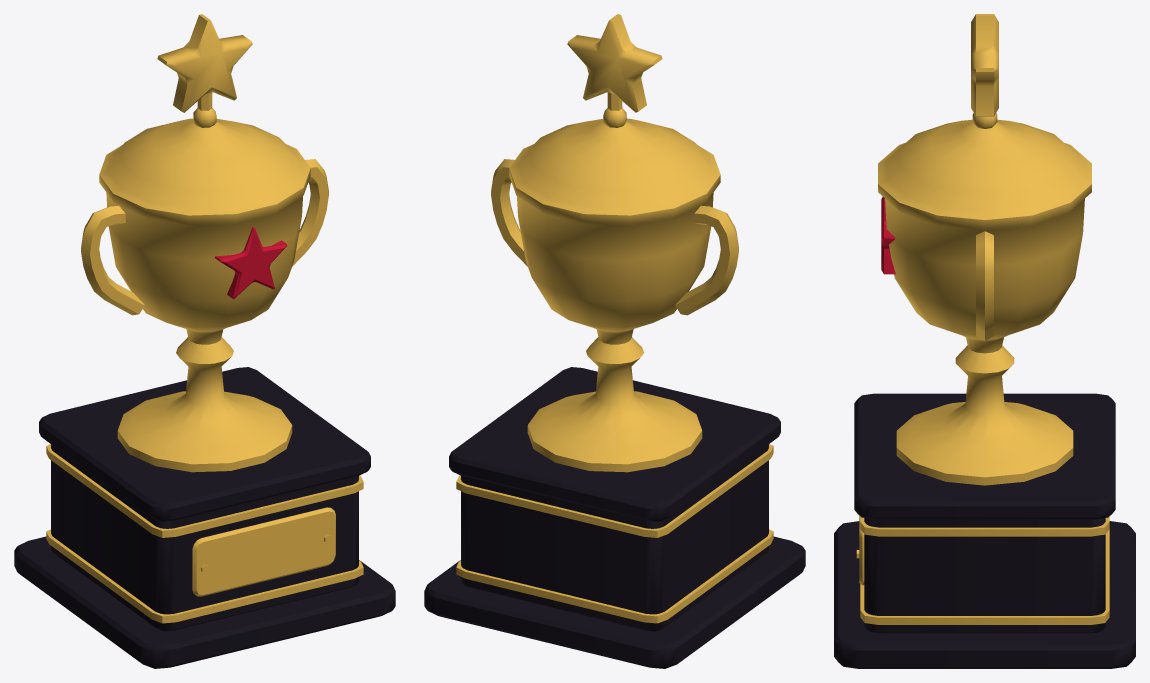
File: Lobby_GoldTrophy.fbx
The picture shows the model from 3 angles, left to right: view 1: azimuth 30°, elevation 25°; view 2: azimuth 150°, elevation 25°; view 3: azimuth 270°, elevation 25°; orthographic projection. The views are drawn at different scales.
Visible parts, largest first — view 1: Plinth, Cup, Gold, Plaque, StarInlay; view 2: Plinth, Cup, Gold; view 3: Plinth, Cup, Gold, StarInlay.
Boxes of the visible parts, x1=… form: Plinth: x1=14, y1=367, x2=395, y2=668; Cup: x1=99, y1=118, x2=310, y2=472; Gold: x1=46, y1=14, x2=363, y2=623; Plaque: x1=192, y1=507, x2=335, y2=596; StarInlay: x1=215, y1=227, x2=287, y2=299; Plinth: x1=424, y1=367, x2=805, y2=668; Cup: x1=509, y1=118, x2=720, y2=472; Gold: x1=456, y1=14, x2=773, y2=623; Plinth: x1=834, y1=393, x2=1135, y2=668; Cup: x1=878, y1=119, x2=1091, y2=485; Gold: x1=856, y1=14, x2=1109, y2=624; StarInlay: x1=881, y1=197, x2=895, y2=274.
Size of the model in its own units: 300 by 649 by 300.
